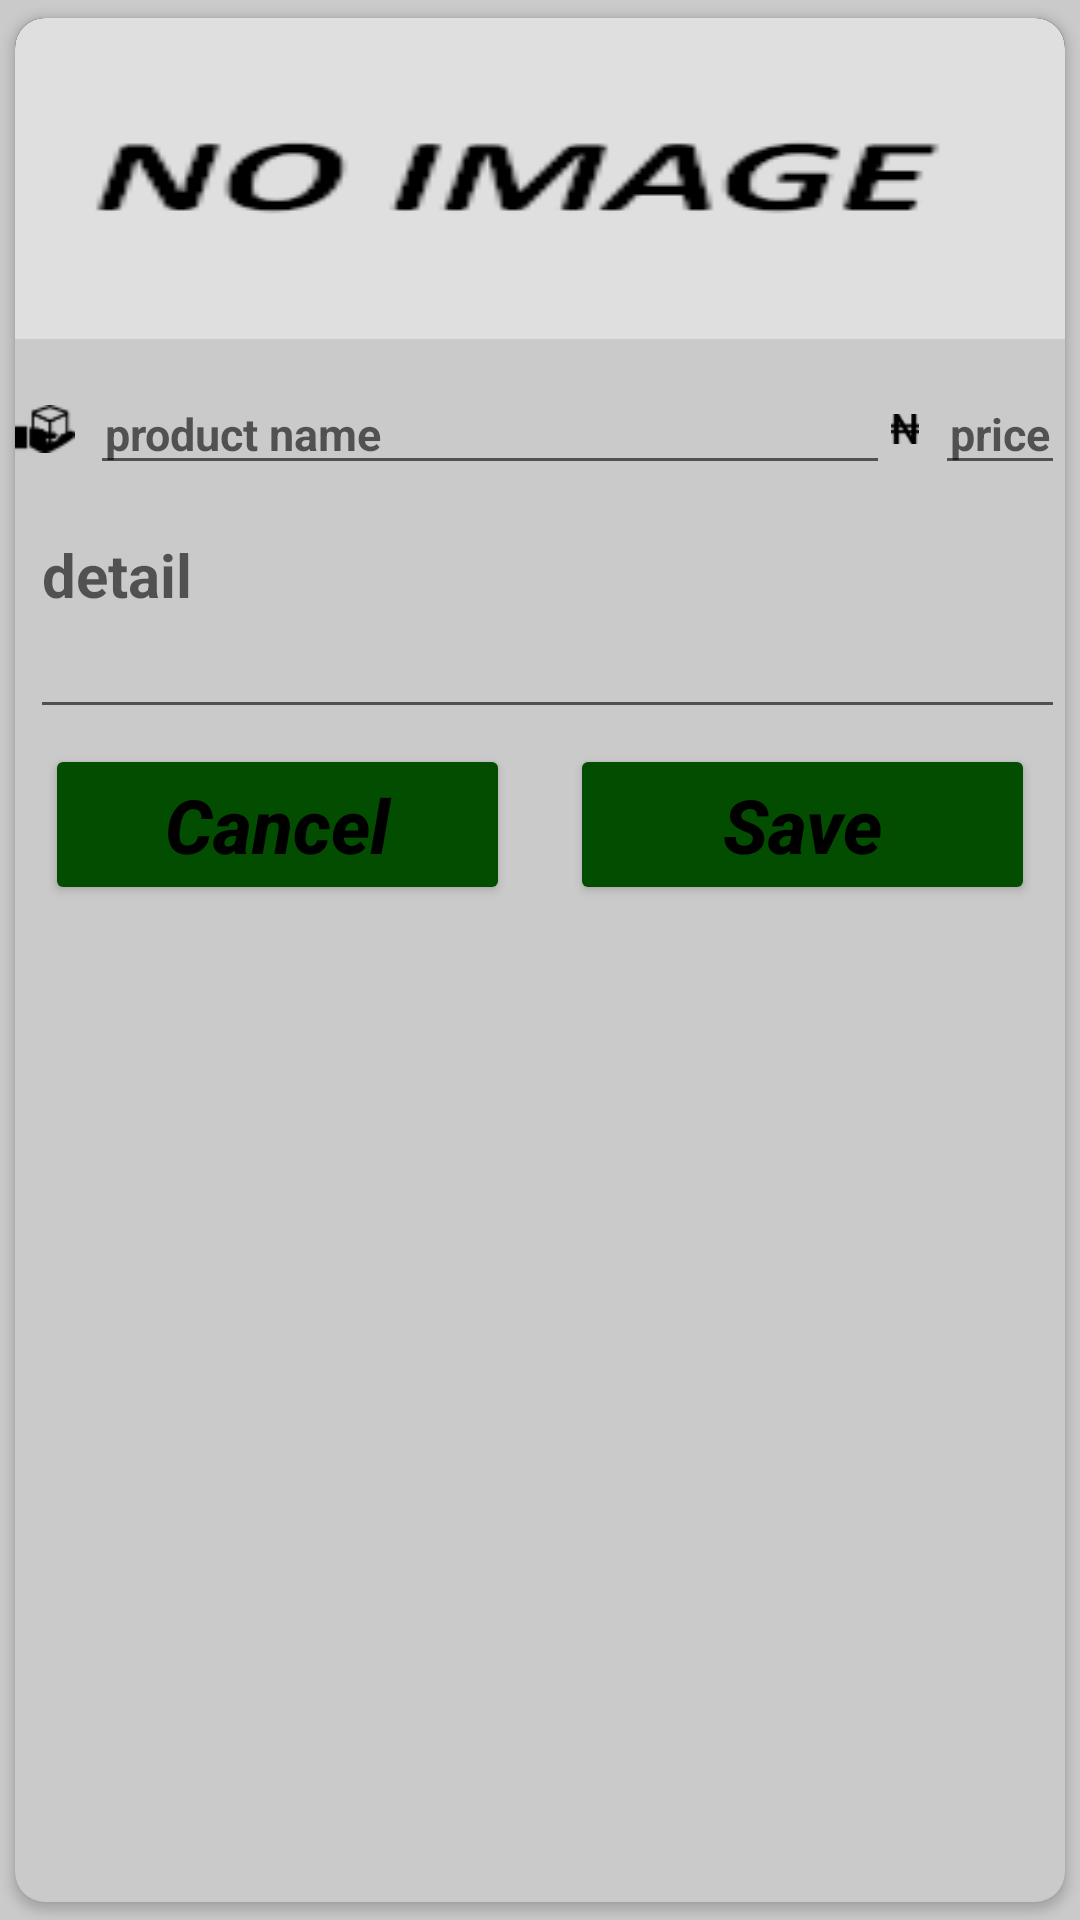

Icons on this 1080px×1920px Android screen, each with the point to tap as [x,y]:
nairaicon: [905,429]
producticon: [45,429]
